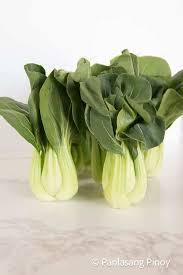Healthy-Pechay: (11, 54, 181, 197)
